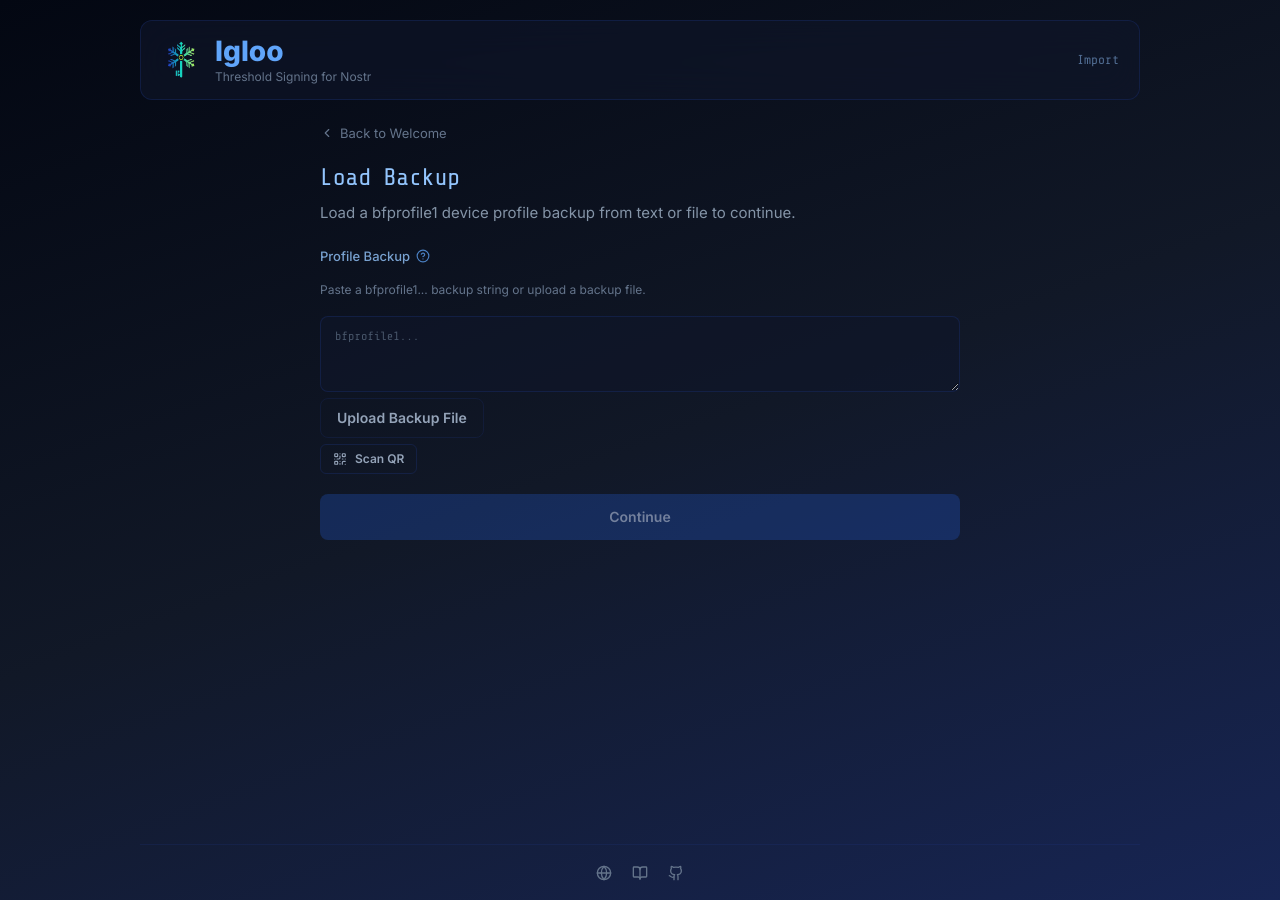
Test: LoadBackupScreen › Continue CTA is disabled until a valid bfprofile1 backup is entered (VAL-IMP-001)
The width and height of the screenshot is (1280, 900).
Check: the button "Continue" is disabled, box top-left (320, 494), bottom-right (960, 540)
Type "bfprofile1abc123" into the text box with placeholder "bfprofile1..." at (640, 354), box top-left (320, 316), bottom-right (960, 392)
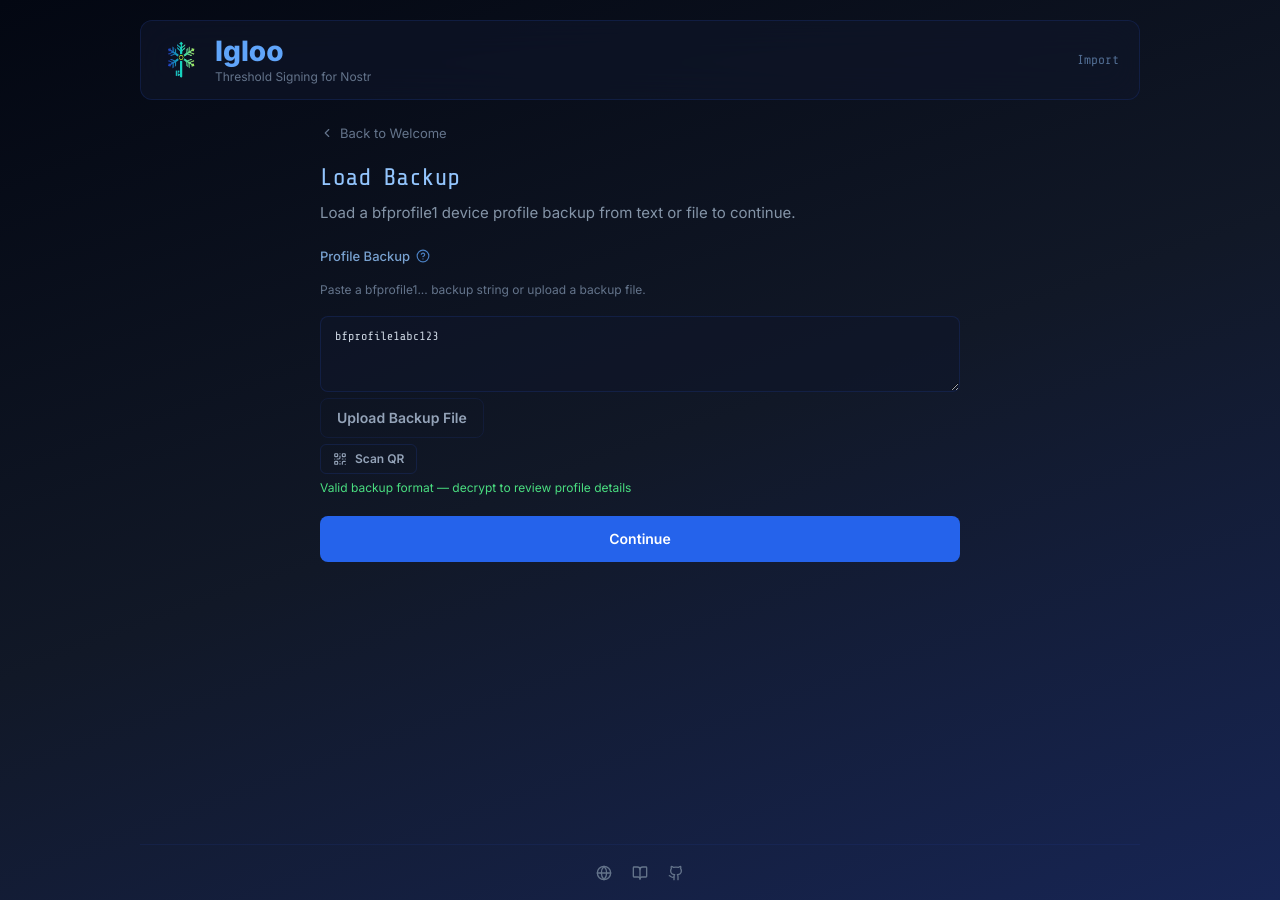
Check: the button "Continue" is enabled, box top-left (320, 516), bottom-right (960, 562)
